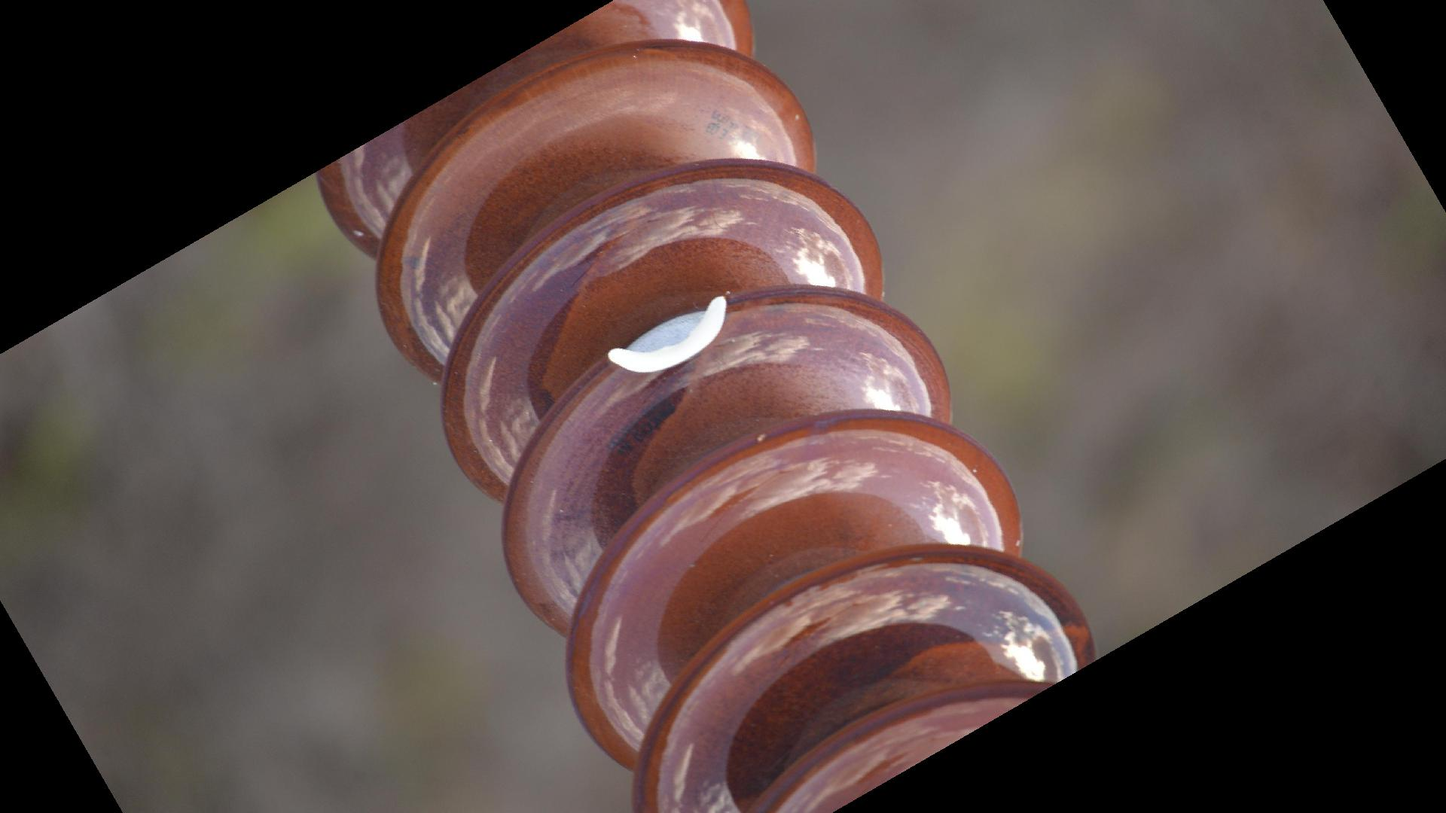insulator: (306, 1, 1103, 813)
insulator_breakage: (596, 285, 740, 379)
